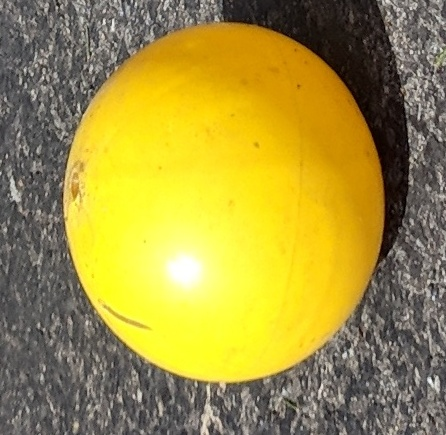ball: (62, 21, 385, 383)
